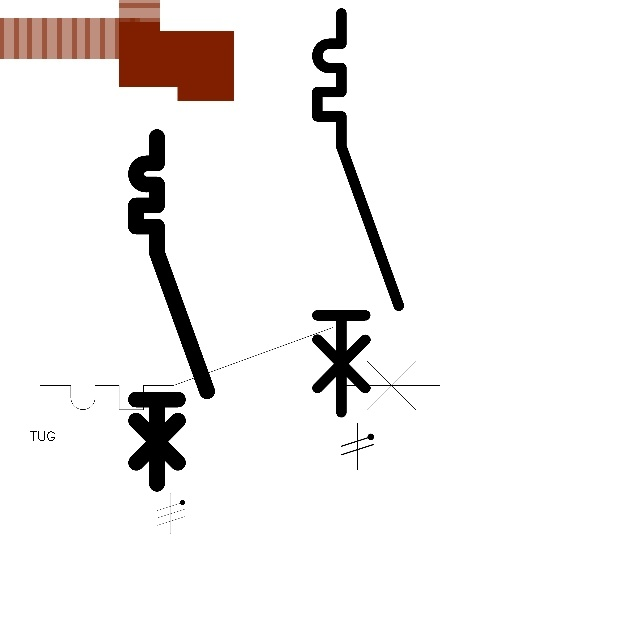interruptor_termomagnetico: (30, 317, 450, 420), (307, 3, 409, 422), (127, 128, 216, 493)
